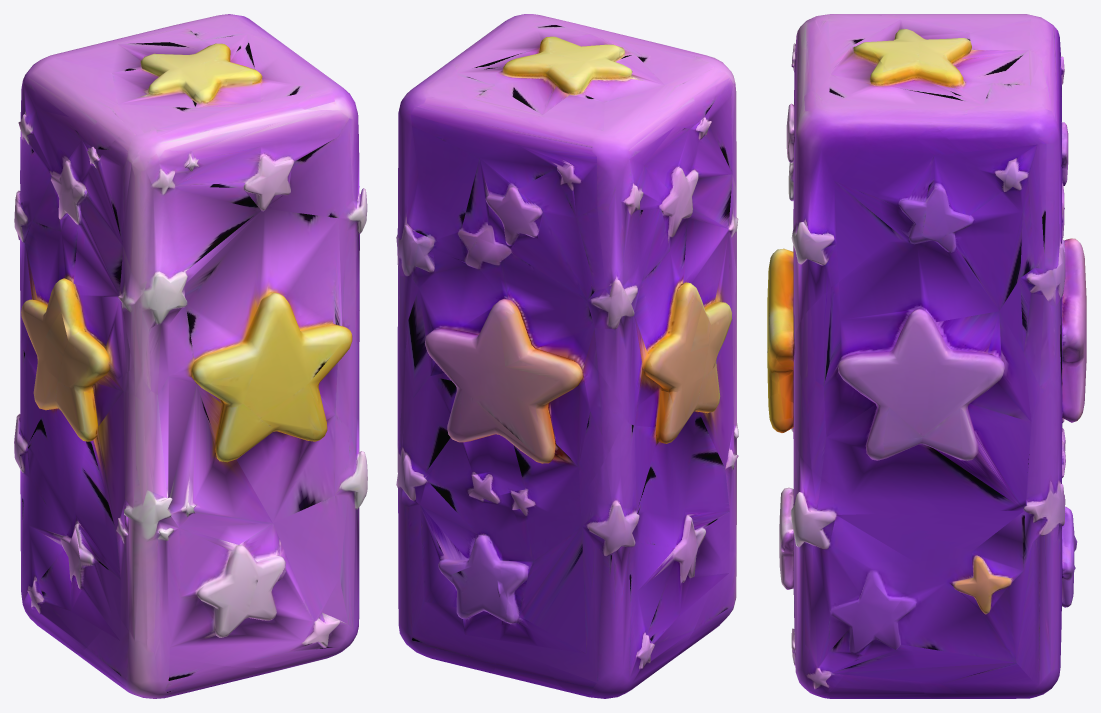
The model's file is mor_dikey_kup_parcali.glb.
The picture shows the model from 3 angles, left to right: view 1: azimuth 30°, elevation 25°; view 2: azimuth 150°, elevation 25°; view 3: azimuth 270°, elevation 25°; orthographic projection. The views are drawn at different scales.
Visible parts, largest first — view 1: p09, p11, p04, p03, p10, p08, p07, p00, p05, p02; view 2: p03, p06, p08, p10, p01, p07, p00, p05, p04, p09, p02; view 3: p02, p01, p03, p09, p11, p00, p05, p06.
Boxes of the visible parts, x1,y1,x2,y2 form: p09: [117, 76, 367, 394]; p11: [144, 404, 367, 667]; p04: [103, 367, 322, 641]; p03: [15, 14, 294, 202]; p10: [14, 193, 133, 396]; p08: [14, 418, 116, 653]; p07: [16, 333, 107, 574]; p00: [69, 52, 327, 274]; p05: [76, 613, 305, 698]; p02: [318, 276, 359, 421]; p03: [398, 40, 715, 301]; p06: [399, 241, 626, 531]; p08: [498, 499, 725, 698]; p10: [550, 193, 736, 411]; p01: [396, 443, 507, 673]; p07: [580, 364, 720, 526]; p00: [412, 27, 735, 241]; p05: [492, 549, 736, 692]; p04: [714, 284, 738, 554]; p09: [492, 14, 738, 283]; p02: [396, 206, 412, 443]; p02: [776, 233, 1065, 542]; p01: [904, 482, 1077, 698]; p03: [846, 14, 1068, 252]; p09: [767, 18, 887, 383]; p11: [768, 393, 923, 696]; p00: [813, 14, 1064, 253]; p05: [820, 593, 935, 698]; p06: [1055, 238, 1086, 483].
Bounding box in the file's own units: 0.4722 × 0.9801 × 0.4717.
Materials: 2 (1 with a texture image).
